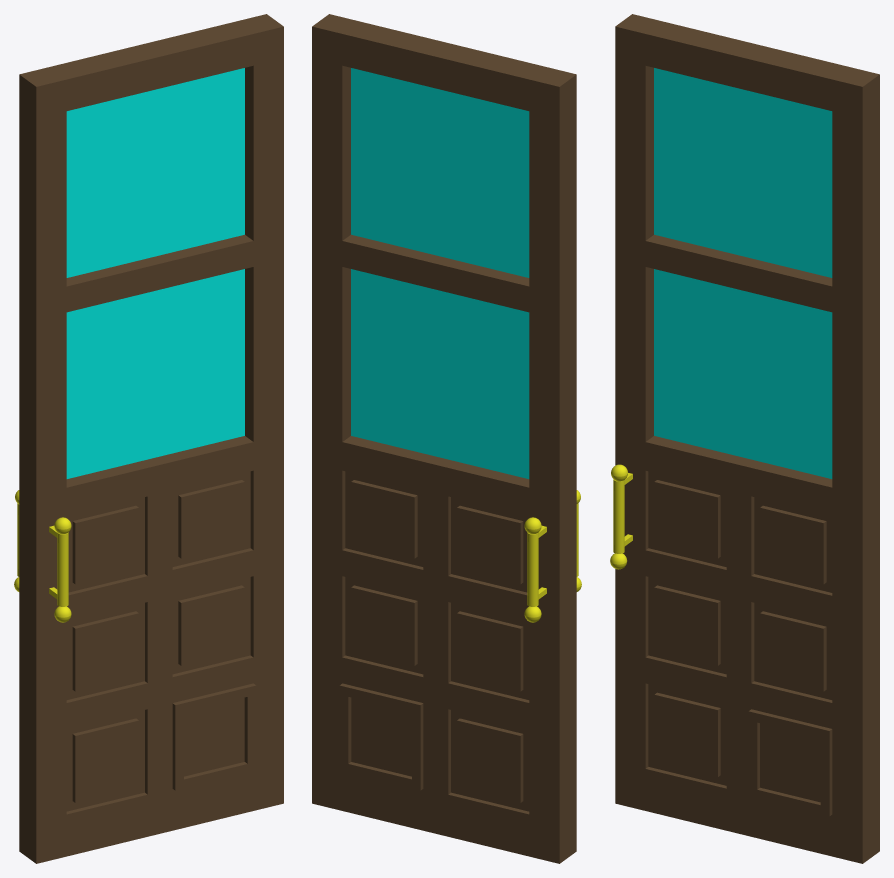
File: Puerta2.fbx
The picture shows the model from 3 angles, left to right: view 1: azimuth 30°, elevation 25°; view 2: azimuth 150°, elevation 25°; view 3: azimuth 330°, elevation 25°; orthographic projection.
Visible parts, largest first — view 1: Componente_3_2, Componente_3_1; view 2: Componente_3_1, Componente_3_2; view 3: Componente_3_2, Componente_3_1.
Part boxes in pixels (box(x1,y1,x2,y2)): Componente_3_2: box(27, 20, 283, 863); Componente_3_1: box(14, 14, 274, 857); Componente_3_1: box(312, 20, 568, 863); Componente_3_2: box(321, 14, 581, 857); Componente_3_2: box(610, 20, 871, 863); Componente_3_1: box(624, 14, 879, 857).
Bounding box in the file's own units: 1 × 3 × 0.3419.
